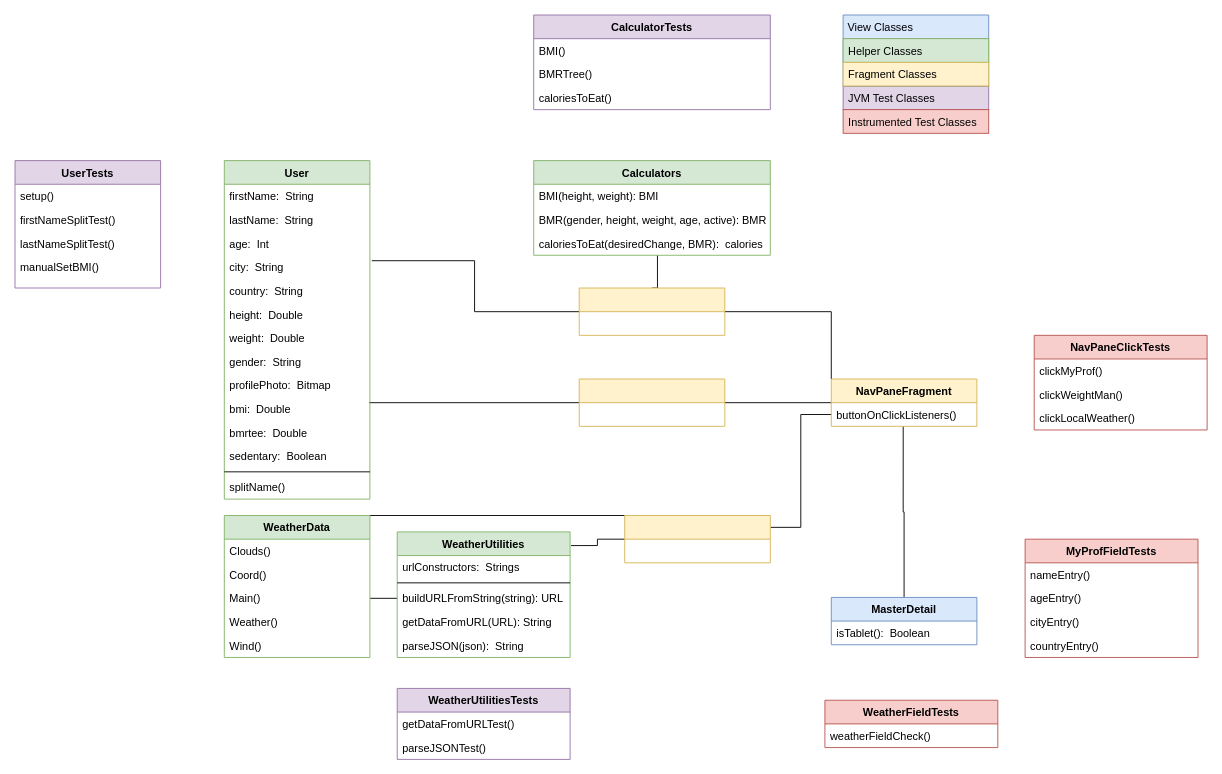
Some shapes in this 1222 by 774 pixel diagram are drawn without their labels. Each missing label, with the centre of its shape:
ProfilePageFragment: [651,402]
WeatherFragment: [697,539]
WeightManFragment: [651,311]
